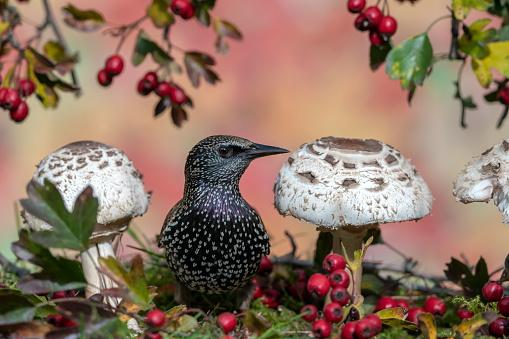bird: (158, 135, 287, 310)
